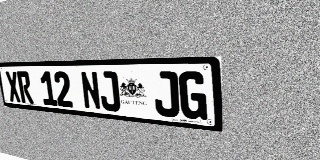1: (39, 71, 58, 106)
2: (53, 71, 73, 108)
G: (178, 71, 207, 120)
J: (153, 71, 180, 118), (98, 71, 121, 112)
N: (80, 71, 102, 110)
R: (16, 71, 34, 104)
X: (5, 71, 22, 103)
